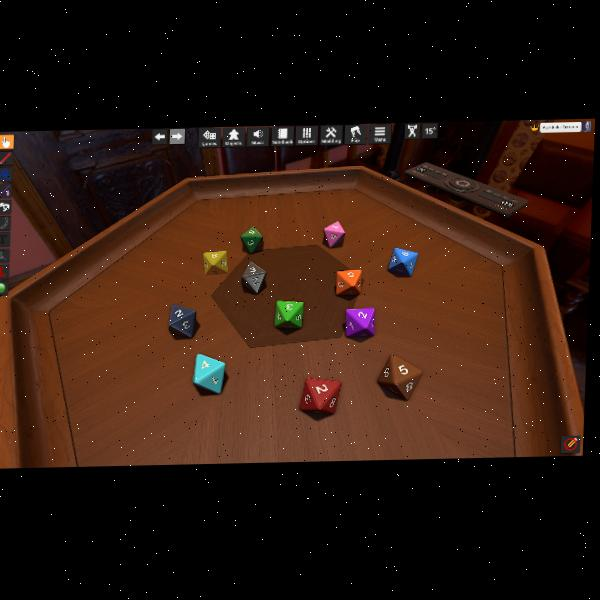d8: (379, 354, 421, 400), (299, 377, 339, 414), (192, 351, 226, 393), (167, 303, 197, 340), (344, 307, 373, 339), (241, 260, 268, 294), (388, 246, 416, 276), (274, 300, 302, 329), (335, 269, 361, 295), (240, 227, 263, 253), (322, 221, 344, 248), (203, 249, 227, 273)
